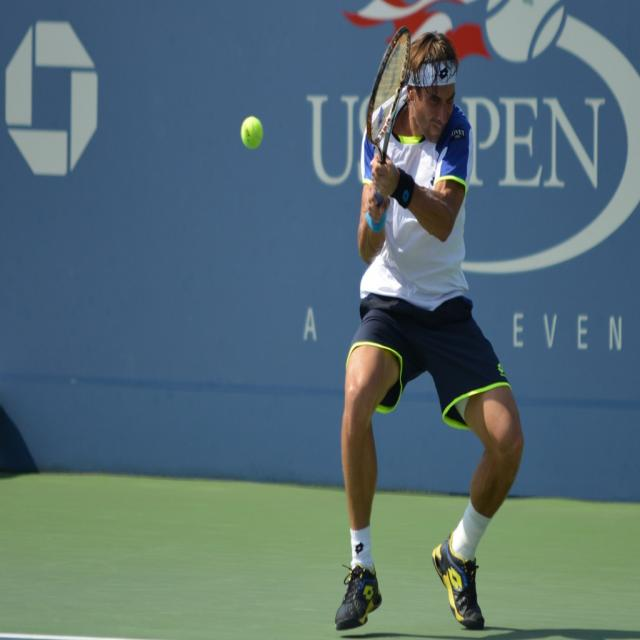Tennis-Ball: (238, 112, 265, 152)
